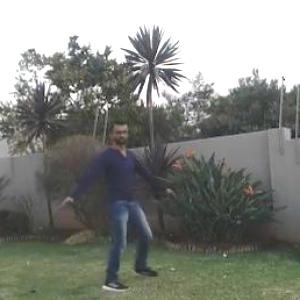land: (49, 101, 180, 299)
